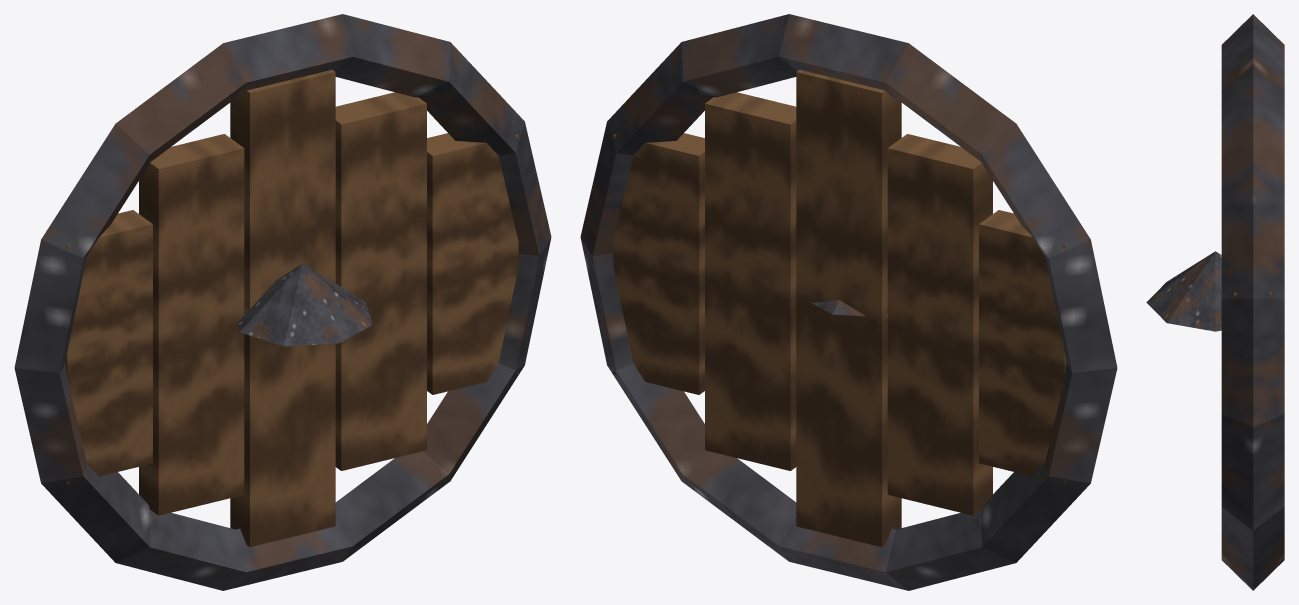
The model's file is rival_round_shield.obj.
The picture shows the model from 3 angles, left to right: view 1: azimuth 30°, elevation 25°; view 2: azimuth 150°, elevation 25°; view 3: azimuth 270°, elevation 25°; orthographic projection. The views are drawn at different scales.
Parts seen in each view (by area): view 1: rival_round_shield; view 2: rival_round_shield; view 3: rival_round_shield.
Part boxes in pixels (<box>): rival_round_shield: <box>14,14,551,590</box>; rival_round_shield: <box>580,14,1117,590</box>; rival_round_shield: <box>1146,14,1284,590</box>.
Bounding box in the file's own units: 0.5876 × 0.5728 × 0.1374.
